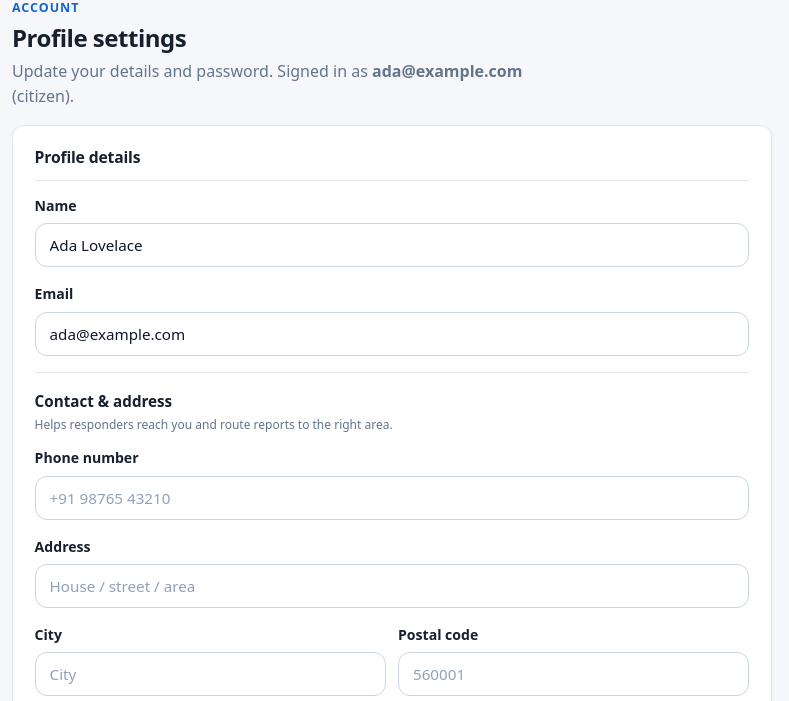
profile page › asks for the current password when the email changes
The width and height of the screenshot is (789, 701).
Step 1. Replace the text in the field labelled "Email" with "new@example.com" → (392,334), box [35,312,749,356]
(page scrolled)
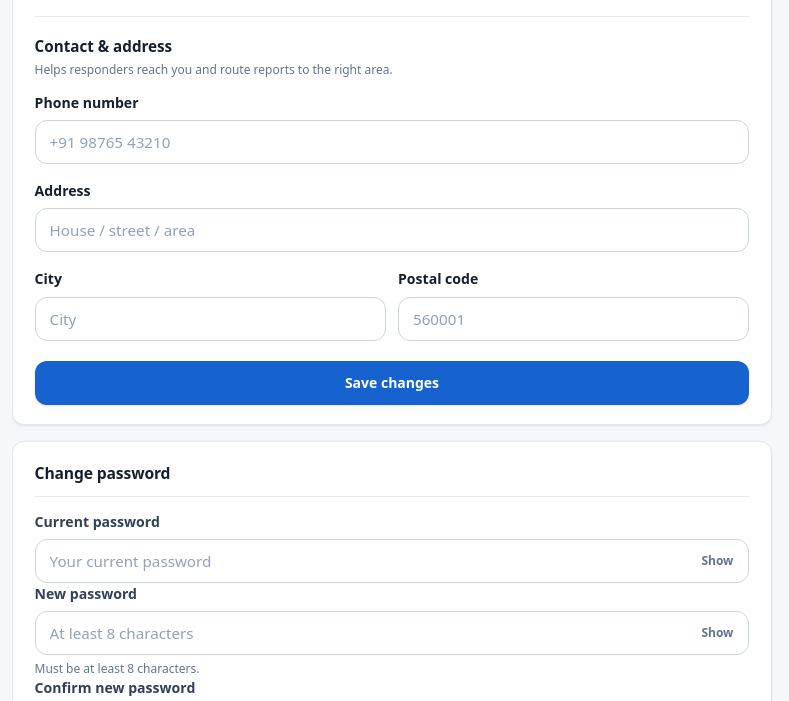
Step 2. Click the button "Save changes" → (392,382), box [35,360,749,404]
(page scrolled)
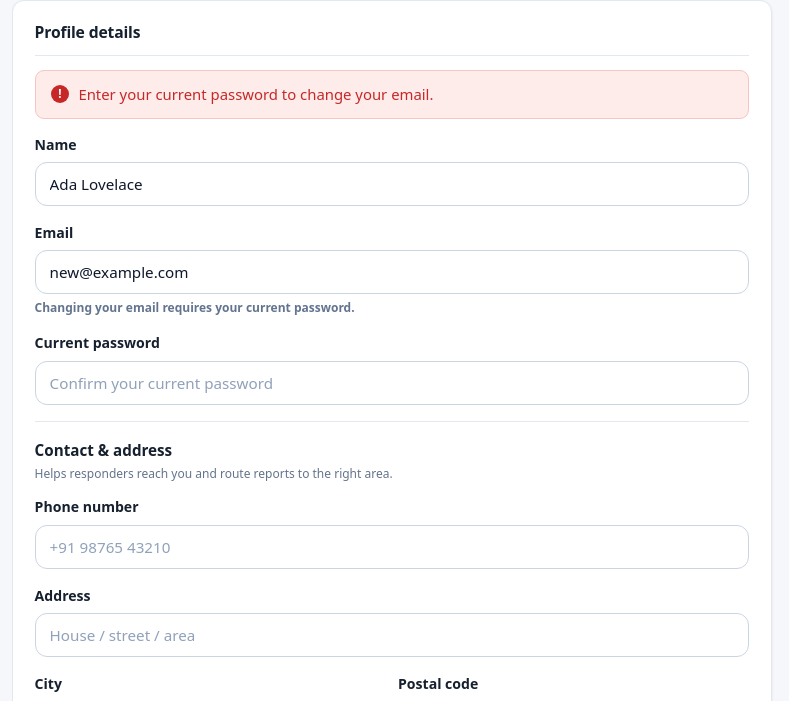
Expected: the text "Enter your current password to change your email." is shown, [35,70,749,119]
Step 3. Type "password123" into the password field labelled "Current password" → (392,383), box [35,361,749,405]
(page scrolled)
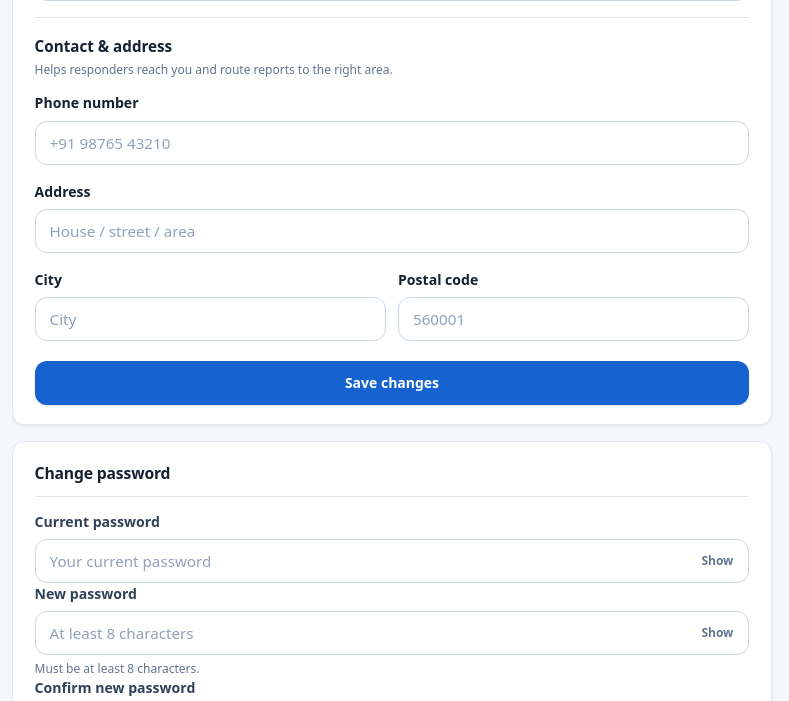
Step 4. Click the button "Save changes" → (392,383), box [35,361,749,405]
(page scrolled)
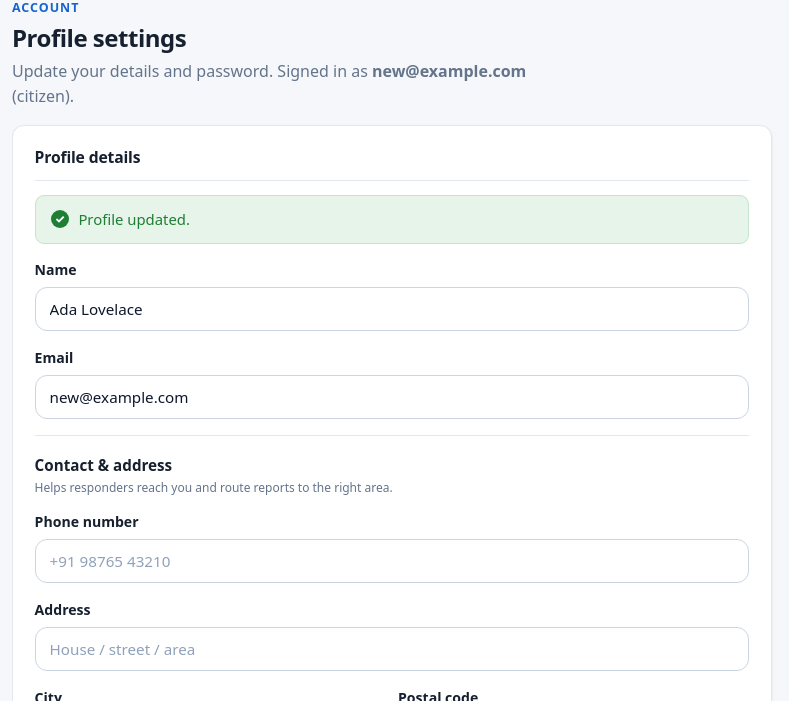
Expected: the text "Profile updated." is shown, [35,195,749,244]
